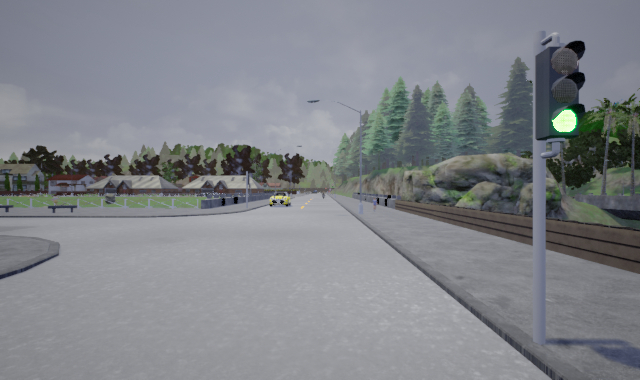traffic_light: (536, 40, 587, 142)
vehicle: (269, 192, 290, 207)
